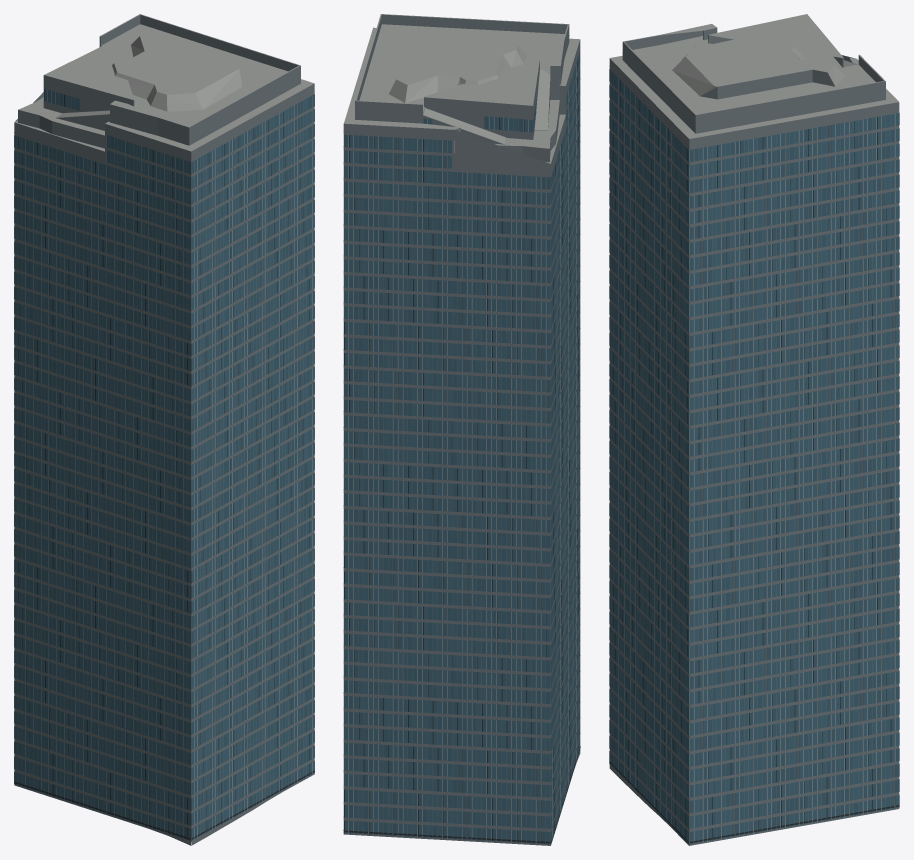
File: scramble-square.glb
3 views of the same model, side by side, from view 1: azimuth 30°, elevation 25°; view 2: azimuth 150°, elevation 25°; view 3: azimuth 270°, elevation 25° (orthographic). The views are drawn at different scales.
Parts seen in each view (by area): view 1: scramble-square_wall, scramble-square_glass1, scramble-square_glass2, scramble-square_glass0, scramble-square_frame, scramble-square_spandrel, scramble-square_roof, scramble-square_dark, scramble-square_sign_housing; view 2: scramble-square_wall, scramble-square_glass1, scramble-square_glass0, scramble-square_glass2, scramble-square_roof, scramble-square_frame, scramble-square_spandrel, scramble-square_dark, scramble-square_sign_housing; view 3: scramble-square_wall, scramble-square_glass1, scramble-square_glass0, scramble-square_glass2, scramble-square_frame, scramble-square_spandrel, scramble-square_roof, scramble-square_dark, scramble-square_sign_housing.
Boxes of the visible parts, left/top/right/bottom form: scramble-square_wall: left=14, top=14, right=314, bottom=845; scramble-square_glass1: left=14, top=90, right=314, bottom=836; scramble-square_glass2: left=14, top=89, right=314, bottom=840; scramble-square_glass0: left=14, top=93, right=314, bottom=840; scramble-square_frame: left=14, top=47, right=314, bottom=838; scramble-square_spandrel: left=14, top=76, right=314, bottom=841; scramble-square_roof: left=14, top=14, right=314, bottom=151; scramble-square_dark: left=14, top=89, right=312, bottom=840; scramble-square_sign_housing: left=14, top=770, right=314, bottom=839; scramble-square_wall: left=343, top=14, right=580, bottom=845; scramble-square_glass1: left=344, top=52, right=580, bottom=844; scramble-square_glass0: left=344, top=51, right=580, bottom=844; scramble-square_glass2: left=344, top=59, right=580, bottom=841; scramble-square_roof: left=344, top=14, right=579, bottom=163; scramble-square_frame: left=343, top=65, right=576, bottom=843; scramble-square_spandrel: left=343, top=35, right=580, bottom=844; scramble-square_dark: left=344, top=60, right=578, bottom=843; scramble-square_sign_housing: left=343, top=746, right=580, bottom=843; scramble-square_wall: left=609, top=27, right=899, bottom=845; scramble-square_glass1: left=609, top=75, right=899, bottom=841; scramble-square_glass0: left=609, top=69, right=899, bottom=844; scramble-square_glass2: left=609, top=83, right=899, bottom=843; scramble-square_frame: left=618, top=60, right=895, bottom=844; scramble-square_spandrel: left=609, top=53, right=899, bottom=844; scramble-square_roof: left=610, top=14, right=898, bottom=138; scramble-square_dark: left=609, top=81, right=895, bottom=843; scramble-square_sign_housing: left=609, top=761, right=899, bottom=843.
Size of the model in its own units: 79.81 by 230 by 82.76.
